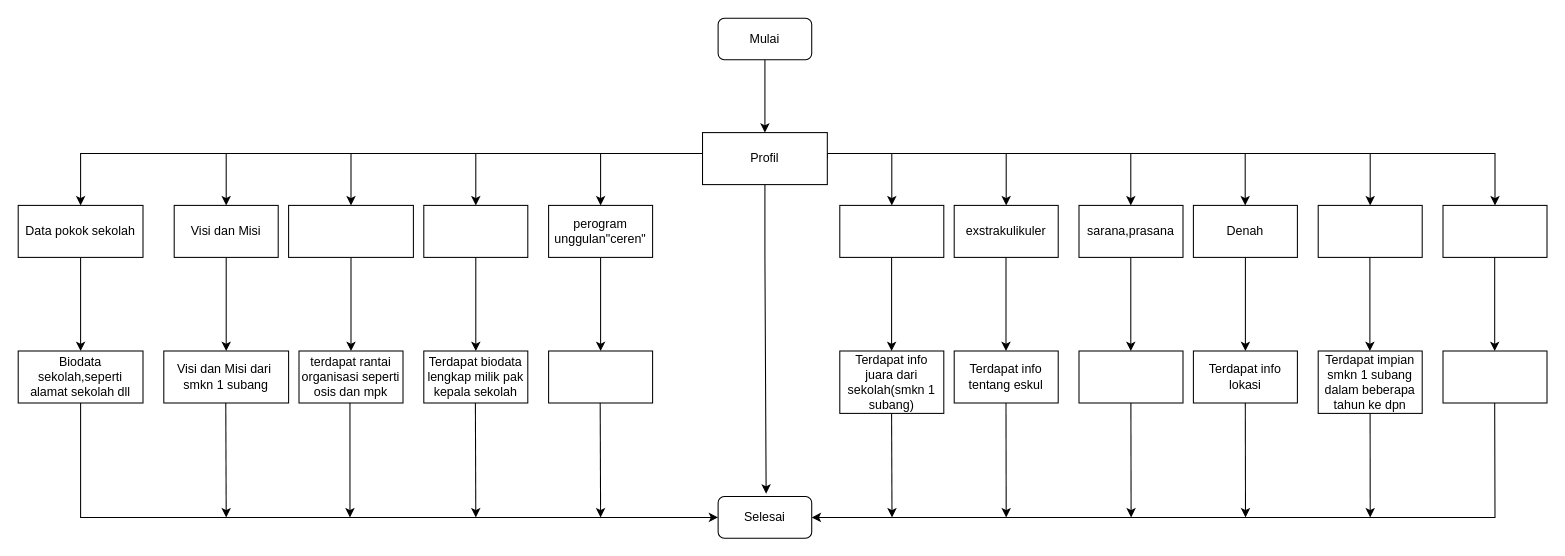
This 1565x556 diagram has some shape labels left out. The shapes that lost their labels are listed below. From the top down, each one's box as (x1, y1, x2, y2) in pixels, then its label:
(288, 204, 413, 257): Stuktur organisasi
(423, 204, 528, 257): Profil kepala sekolah
(839, 204, 944, 257): prestasi sekolah
(1317, 204, 1422, 257): Road map
(1442, 204, 1547, 257): Data siswa
(548, 350, 653, 403): Terdapat karakter guru dan siswa
(1078, 350, 1183, 403): Terdapat photo kantin,mimake dll
(1442, 350, 1547, 403): Terdapat data siswa
